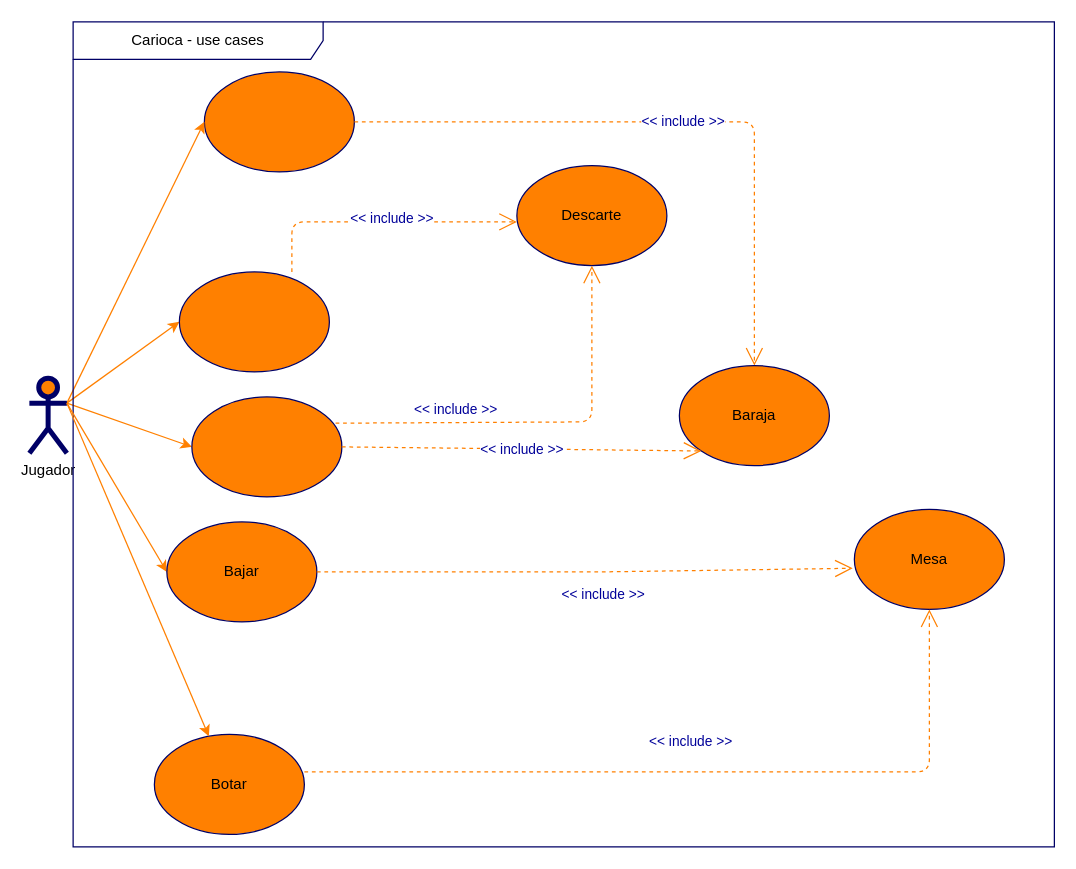
This 1076x869 diagram has some shape labels left out. The shapes that lost their labels are listed below. From the top down, each one's centre as x and y in pixels, then its label:
(278,121): Recibir mano
(253,321): Descartar
(266,446): Tomar
